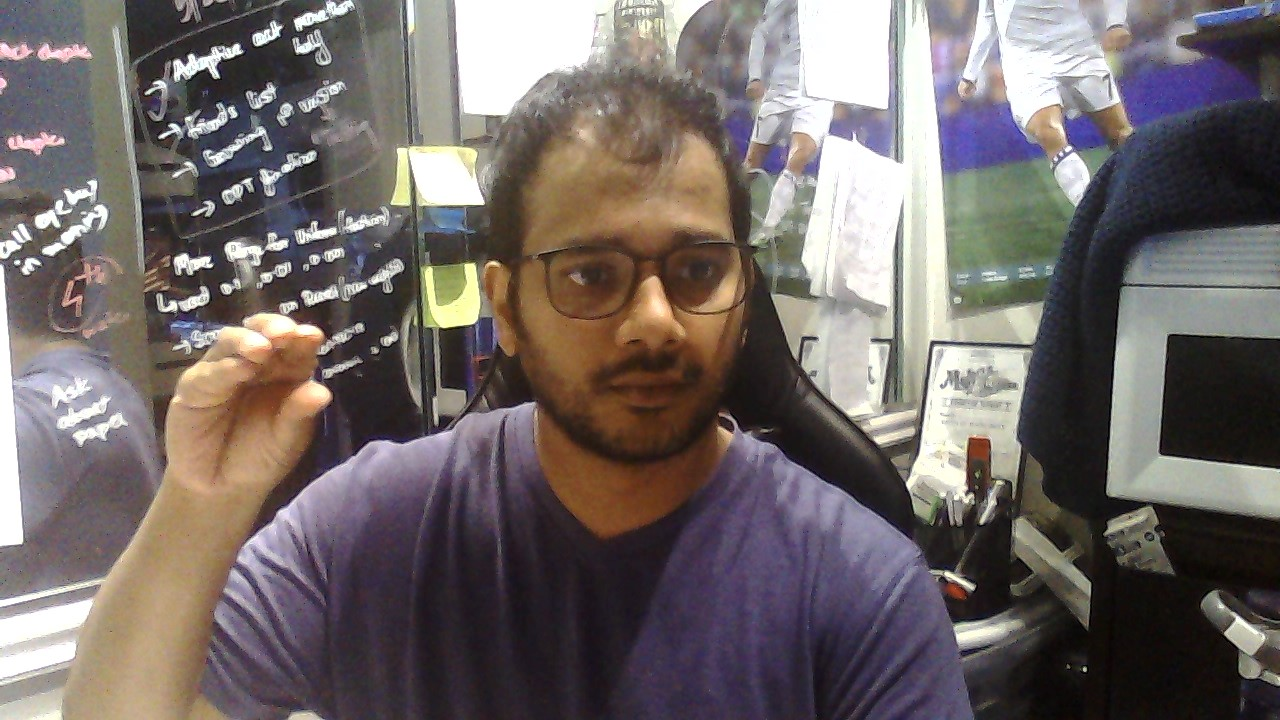No: (165, 312, 334, 493)
